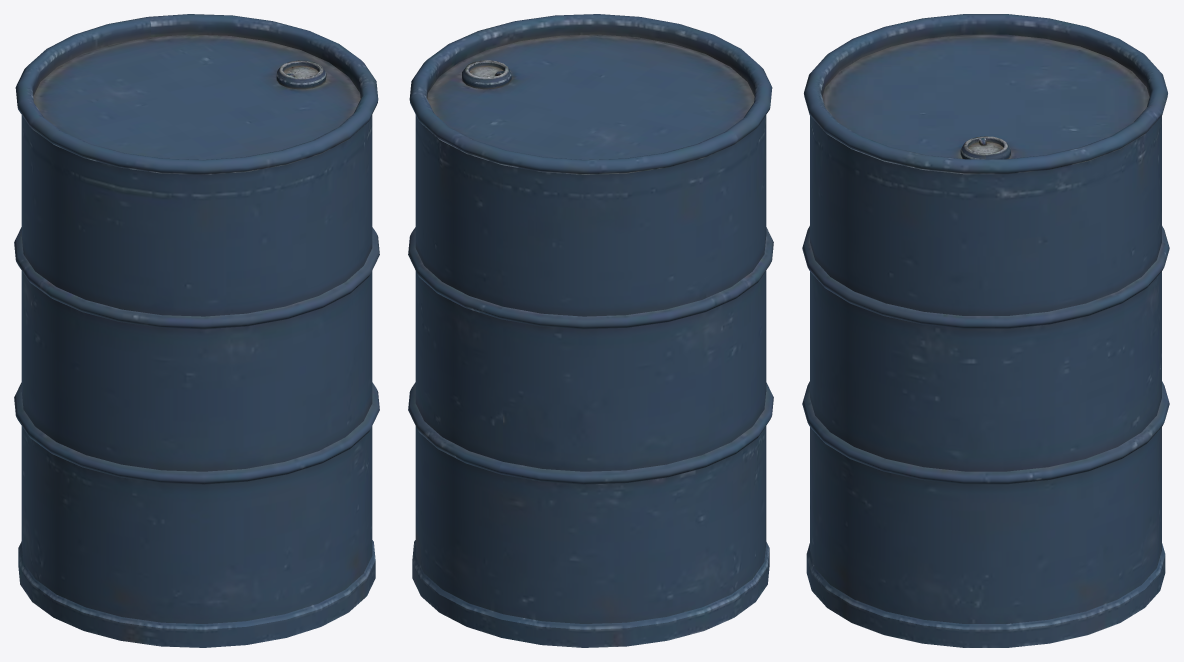
File: barrel_03.glb
The picture shows the model from 3 angles, left to right: view 1: azimuth 30°, elevation 25°; view 2: azimuth 150°, elevation 25°; view 3: azimuth 270°, elevation 25°; orthographic projection.
Parts seen in each view (by area): view 1: barrel_03; view 2: barrel_03; view 3: barrel_03.
Boxes of the visible parts, <box> form: barrel_03: <box>14,14,379,647</box>; barrel_03: <box>408,14,773,647</box>; barrel_03: <box>802,14,1169,647</box>.
Size of the model in its own units: 0.634 by 0.9305 by 0.6386.
1 material, 1 textured.
